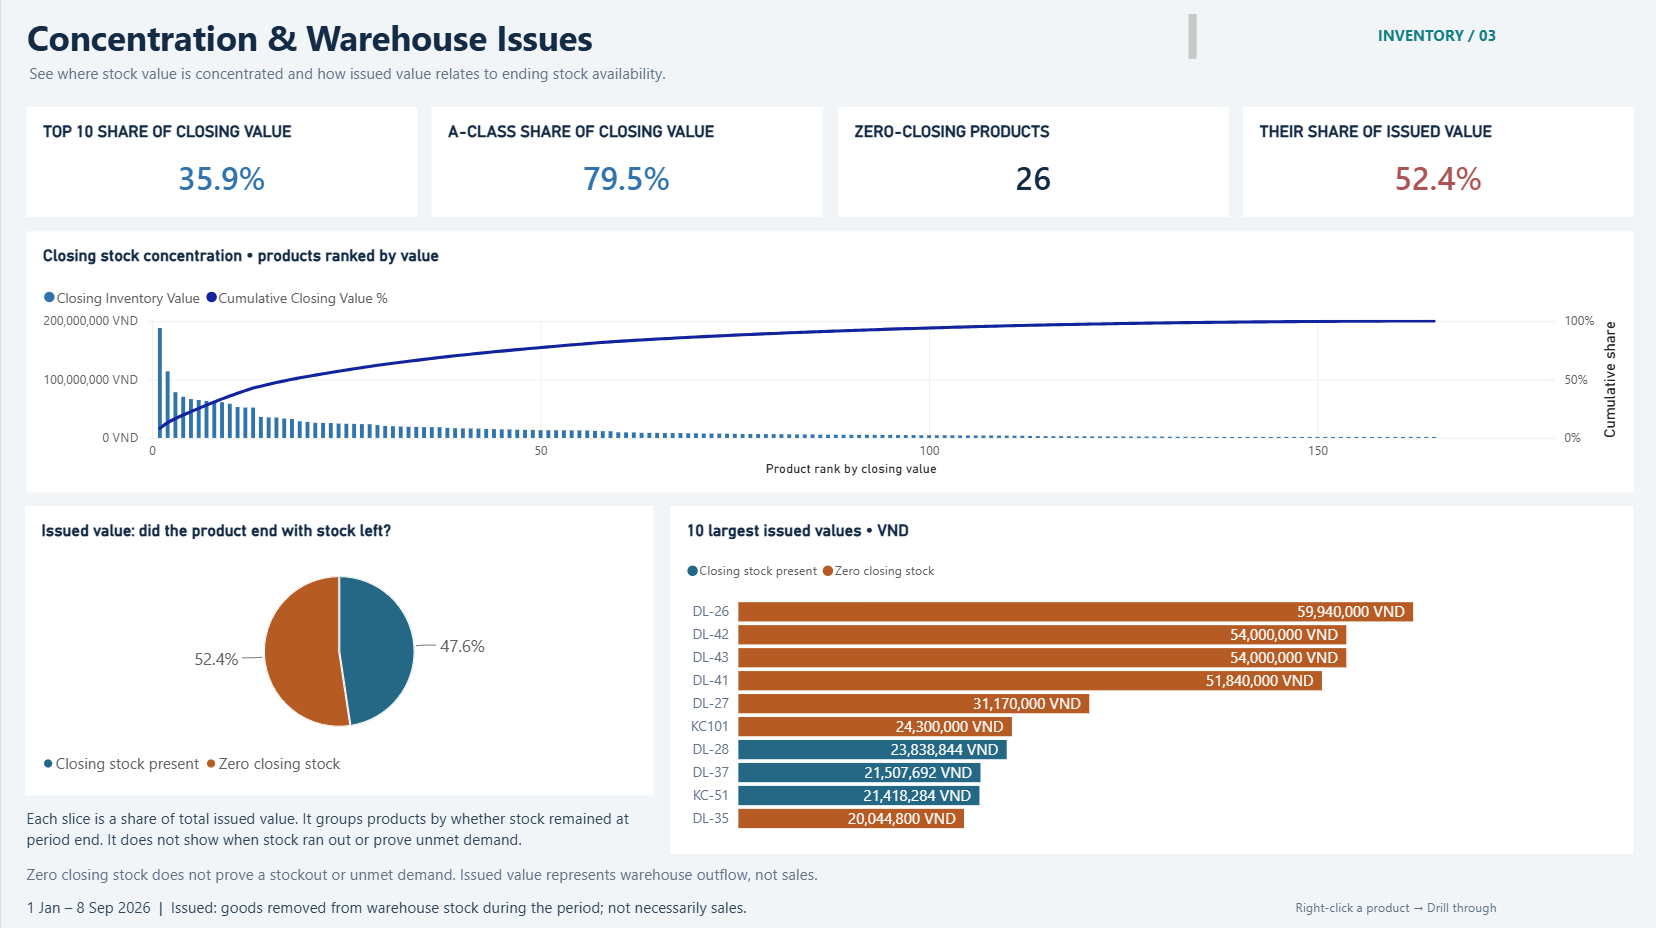

The dashboard page shown, as its layout file describes it:
{"tool":"powerbi","page":{"name":"Concentration & Issues","canvas":[1600,900],"ordinal":2},"visuals":[{"type":"textbox","box":[24,14,1130,44],"z":0},{"type":"textbox","box":[27,61,1280,29],"z":100},{"type":"textbox","box":[1330,24,245,28],"z":200},{"type":"textbox","box":[24,866,1250,24],"z":300},{"type":"textbox","box":[1250,866,326,24],"z":400},{"type":"card","title":"TOP 10 SHARE OF CLOSING VALUE","fields":{"Values":["inventory_status.Top 10 Closing Value Share"]},"box":[24,104,377,106],"z":500},{"type":"card","title":"A-CLASS SHARE OF CLOSING VALUE","fields":{"Values":["inventory_status.A Class Closing Value Share"]},"box":[416,104,377,106],"z":600},{"type":"card","title":"ZERO-CLOSING PRODUCTS","fields":{"Values":["inventory_status.Zero Closing Products"]},"box":[808,104,377,106],"z":700},{"type":"card","title":"THEIR SHARE OF ISSUED VALUE","fields":{"Values":["inventory_status.Issued Value Share from Zero Closing Products"]},"box":[1200,104,377,106],"z":800},{"type":"lineClusteredColumnComboChart","title":"Closing stock concentration • products ranked by value","fields":{"Category":["inventory_status.Value Rank"],"Y":["inventory_status.Closing Inventory Value"],"Y2":["inventory_status.Cumulative Closing Value %"]},"box":[24,224,1552,252],"z":900},{"type":"pieChart","title":"Issued value: did the product end with stock left?","fields":{"Category":["inventory_status.Closing Stock Position"],"Y":["inventory_status.Issued Inventory Value"]},"box":[23.2,489.6,606.9,279.5],"z":1000},{"type":"barChart","title":"10 largest issued values • VND","fields":{"Category":["inventory_status.product_code"],"Series":["inventory_status.Closing Stock Position"],"Y":["inventory_status.Issued Inventory Value"]},"box":[645.6,490,929.9,336.2],"z":1100},{"type":"textbox","box":[24,834,1552,28],"z":1200},{"type":"textbox","box":[24.6,780.7,605.4,44.9],"z":2600}]}

Visuals, with their boxes in screenshot pixels (x1, y1, x2, y2), scaled from the page's 1600x900 canvas onto the 1656x928 screenshot:
textbox: bbox=(25, 14, 1194, 60)
textbox: bbox=(28, 63, 1353, 93)
textbox: bbox=(1377, 25, 1630, 54)
textbox: bbox=(25, 893, 1319, 918)
textbox: bbox=(1294, 893, 1631, 918)
"TOP 10 SHARE OF CLOSING VALUE" card: bbox=(25, 107, 415, 217)
"A-CLASS SHARE OF CLOSING VALUE" card: bbox=(431, 107, 821, 217)
"ZERO-CLOSING PRODUCTS" card: bbox=(836, 107, 1226, 217)
"THEIR SHARE OF ISSUED VALUE" card: bbox=(1242, 107, 1632, 217)
"Closing stock concentration • products ranked by value" lineClusteredColumnComboChart: bbox=(25, 231, 1631, 491)
"Issued value: did the product end with stock left?" pieChart: bbox=(24, 505, 652, 793)
"10 largest issued values • VND" barChart: bbox=(668, 505, 1631, 852)
textbox: bbox=(25, 860, 1631, 889)
textbox: bbox=(25, 805, 652, 851)
